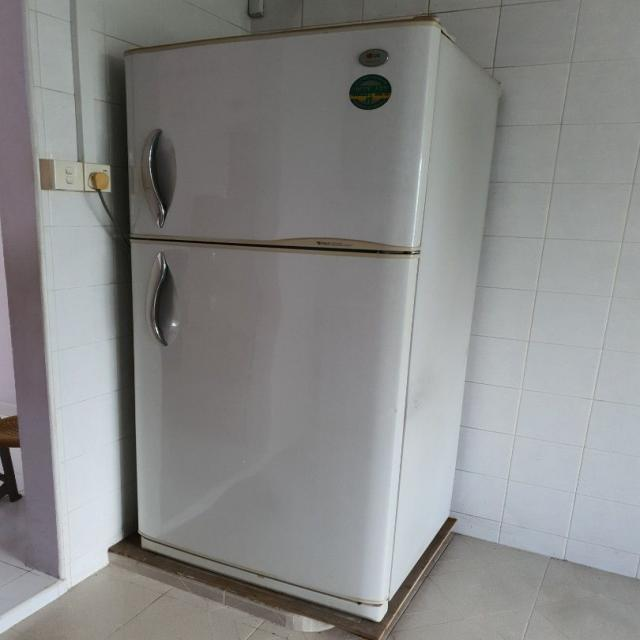refrigerator: (124, 12, 448, 623)
